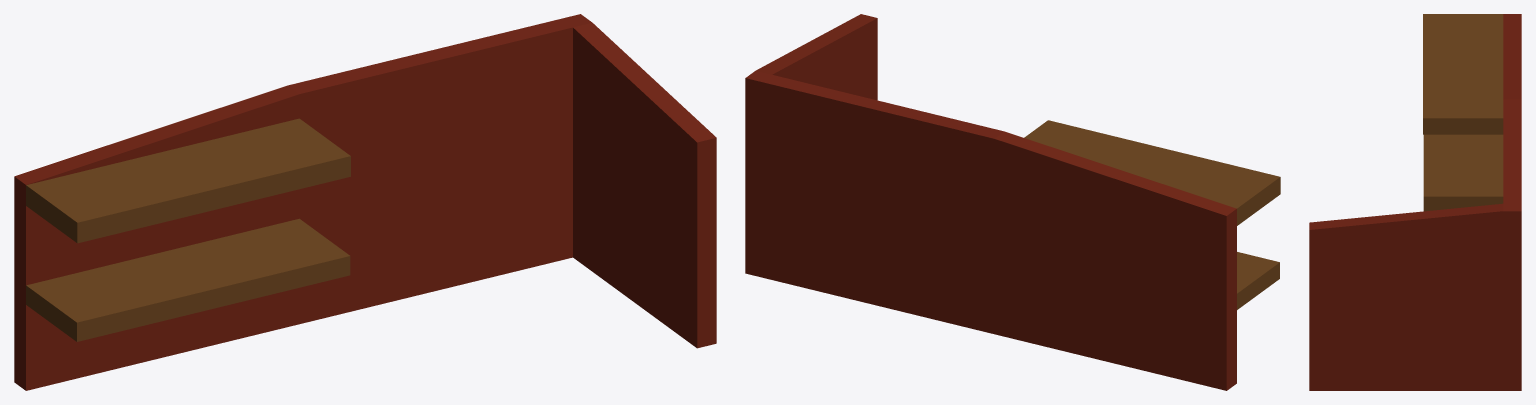
File: divider.fbx
3 renders of one model, left to right at view 1: azimuth 30°, elevation 25°; view 2: azimuth 150°, elevation 25°; view 3: azimuth 270°, elevation 25°, orthographic. The views are drawn at different scales.
Parts seen in each view (by area): view 1: Divider; view 2: Divider; view 3: Divider.
Part boxes in pixels (x1,y1,x2,y2): Divider: [14, 14, 716, 390]; Divider: [745, 14, 1280, 390]; Divider: [1309, 14, 1521, 390].
Size of the model in its own units: 7.79 by 3.02 by 3.24.
